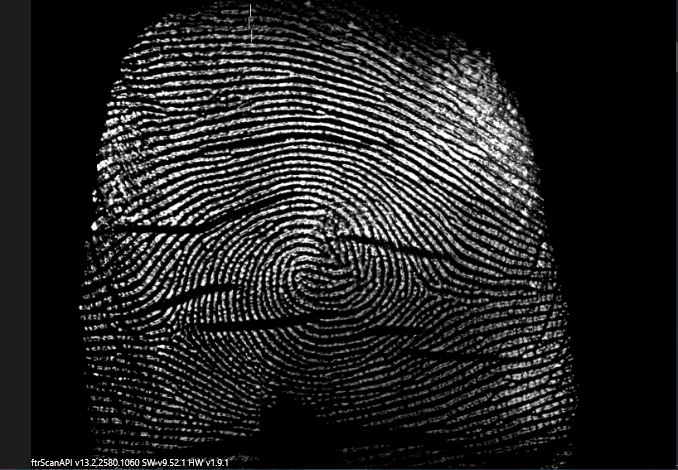nucelo: (280, 260, 343, 300)
verticilo: (158, 311, 194, 354), (402, 269, 430, 299)
